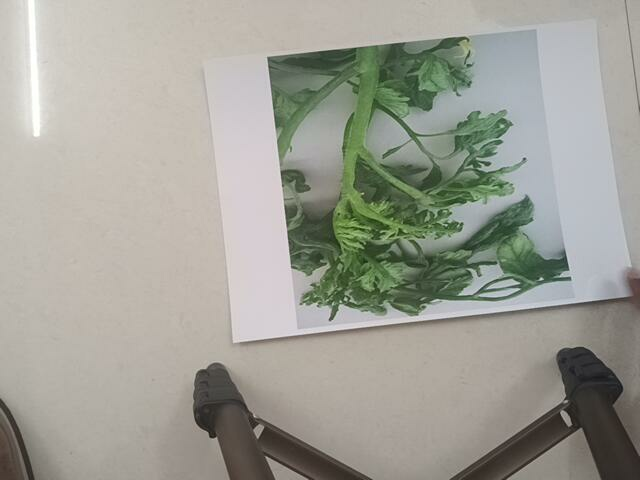Tomamto_Mosaic_virus: (266, 53, 573, 300)
